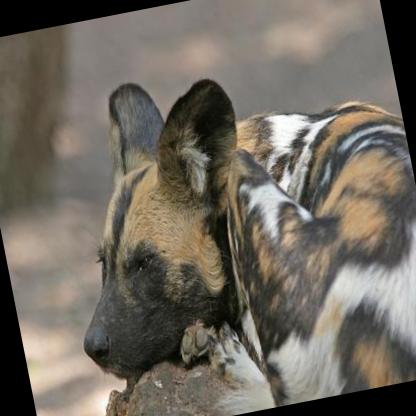African_hunting_dog: (33, 29, 416, 416)
